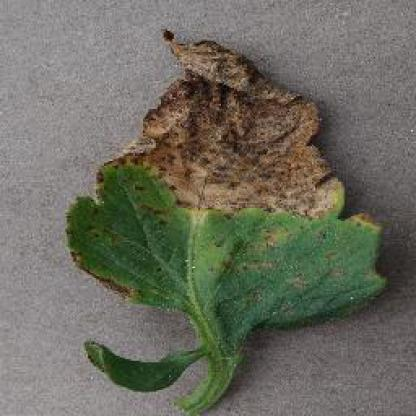bad leaf: (68, 9, 377, 390)
